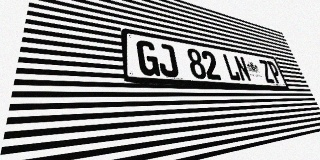2: (200, 50, 221, 80)
8: (186, 47, 208, 79)
G: (136, 39, 161, 76)
J: (156, 43, 179, 78)
L: (222, 53, 242, 81)
N: (233, 55, 252, 82)
P: (266, 61, 283, 84)
Z: (258, 59, 275, 83)
